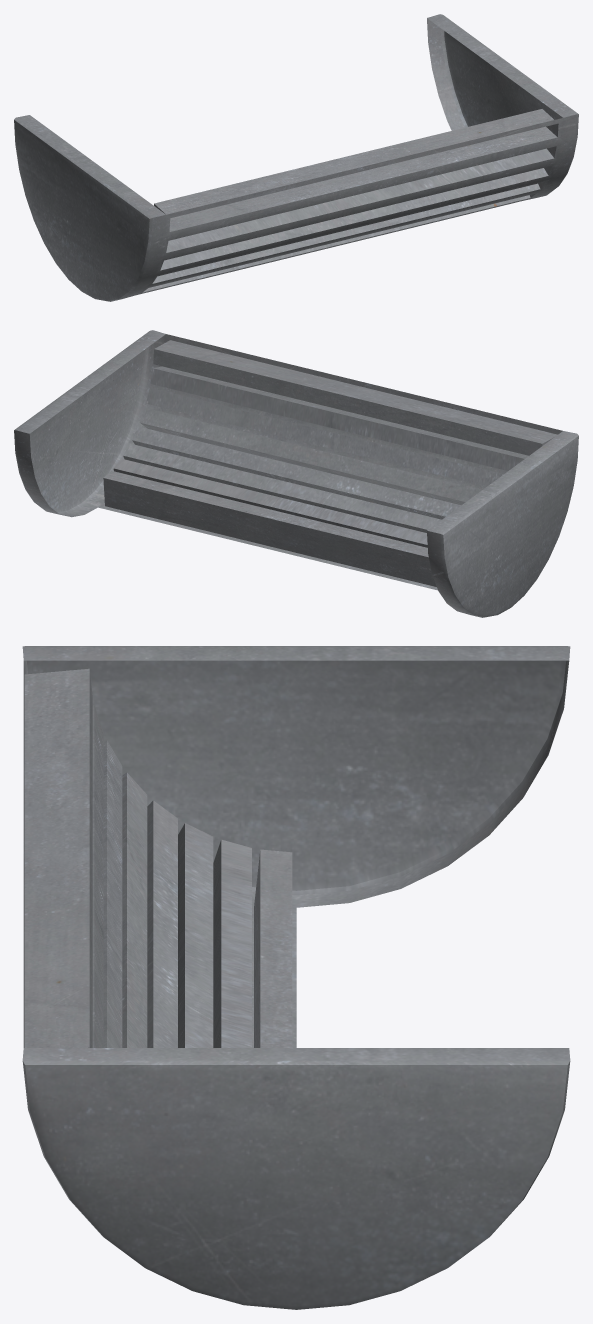
File: heater2.fbx
The picture shows the model from 3 angles, top to bottom: view 1: azimuth 30°, elevation 25°; view 2: azimuth 150°, elevation 25°; view 3: azimuth 270°, elevation 25°; orthographic projection. The views are drawn at different scales.
Visible parts, largest first — view 1: Mesh; view 2: Mesh; view 3: Mesh.
Boxes of the visible parts, bbox=[...] form: Mesh: bbox=[14, 14, 578, 301]; Mesh: bbox=[14, 330, 578, 617]; Mesh: bbox=[22, 646, 570, 1309].
Bounding box in the file's own units: 168 × 46.32 × 92.35.
